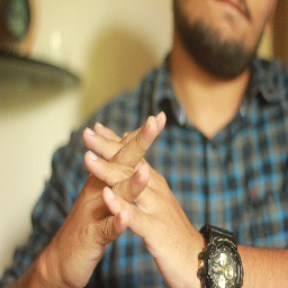W: (66, 105, 187, 282)
